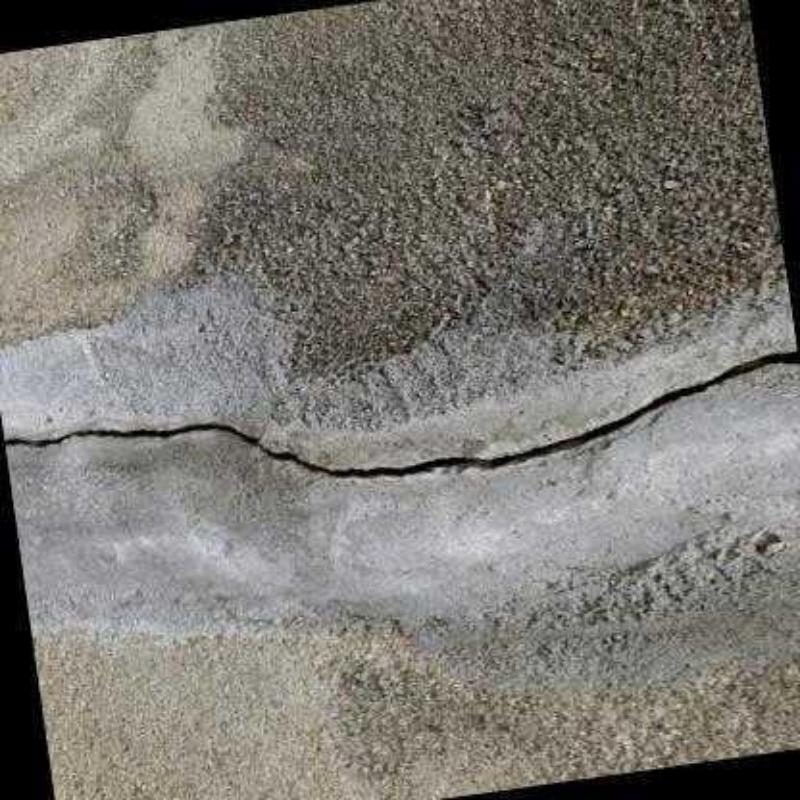crack: (2, 350, 799, 478)
